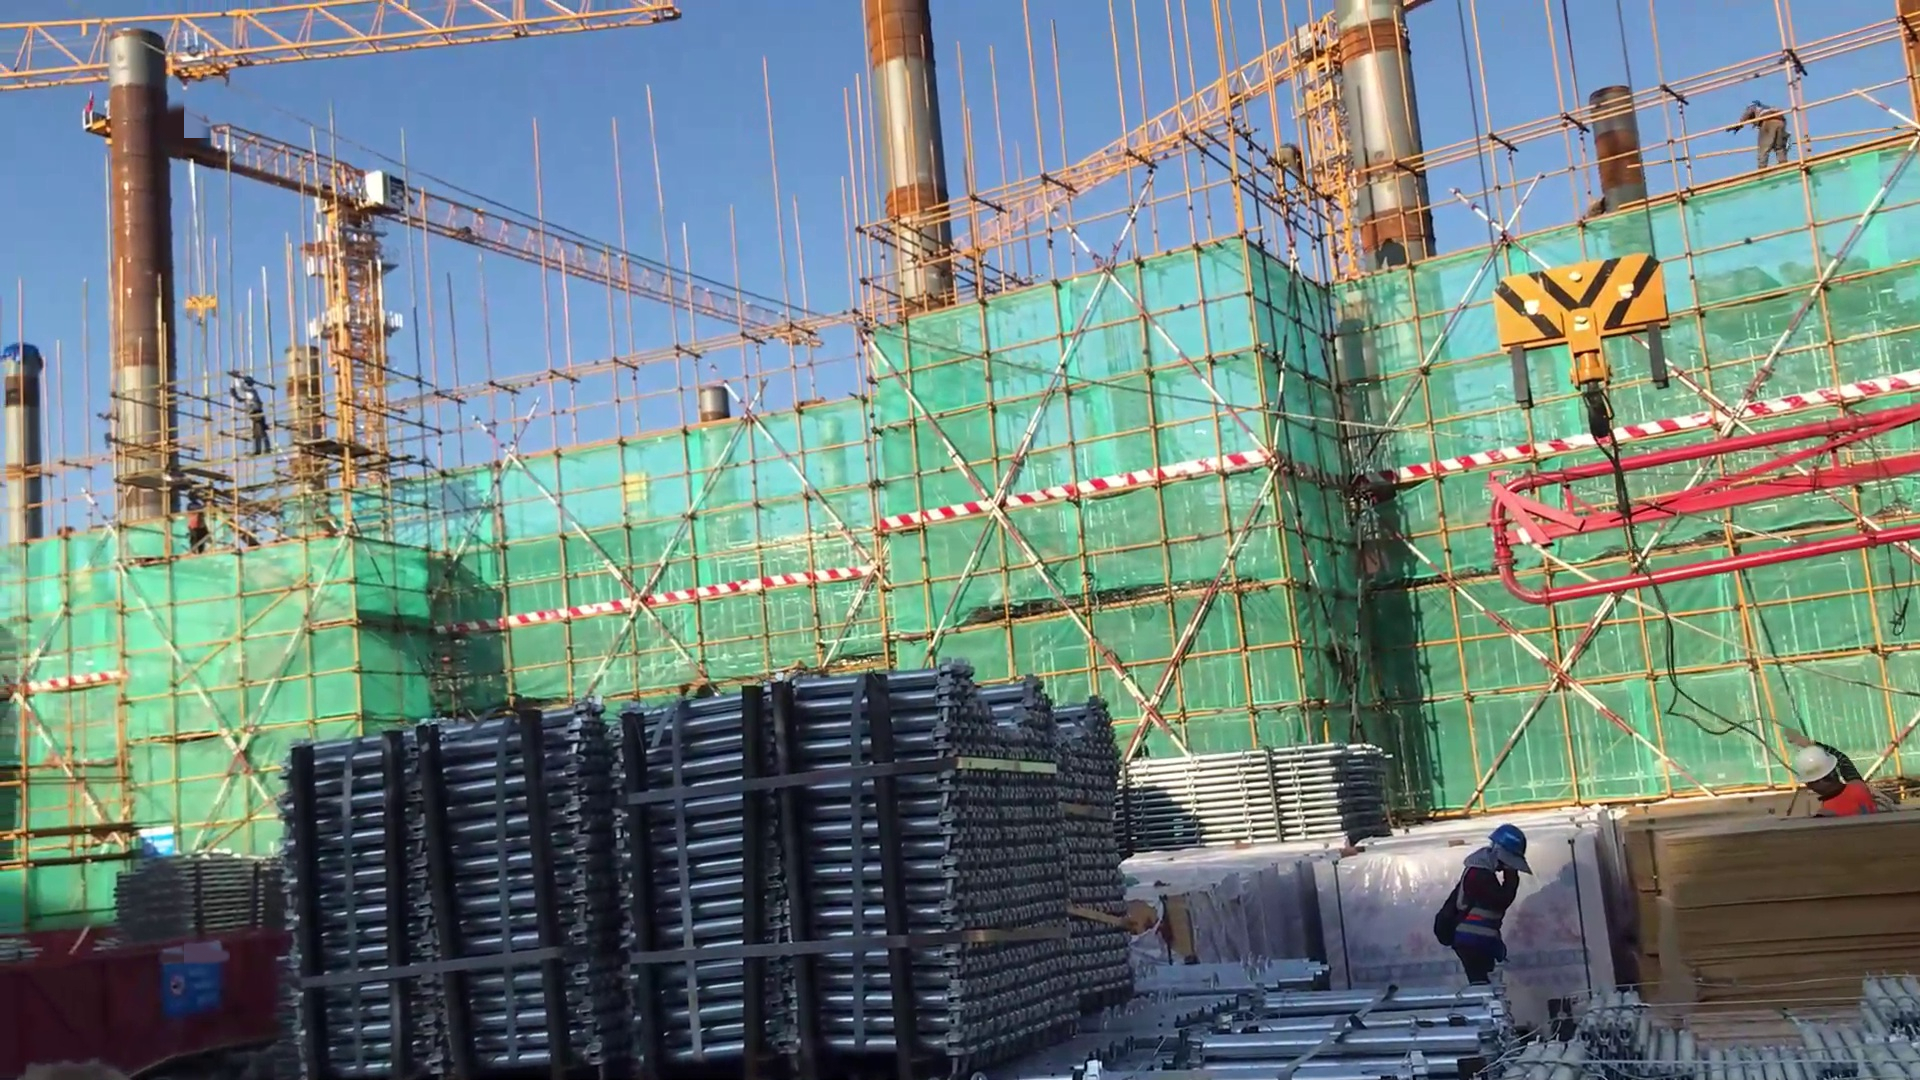board: (1620, 801, 1920, 1004)
fence: (1, 920, 275, 1074)
helmet: (1479, 815, 1537, 872), (1787, 740, 1840, 800)
hook: (1486, 248, 1693, 463), (183, 273, 231, 342)
person: (1425, 822, 1544, 1016), (1780, 737, 1882, 830), (1728, 97, 1807, 179), (167, 478, 219, 569), (229, 368, 270, 467)
scaffold: (277, 638, 1143, 1080), (1476, 976, 1920, 1080), (1136, 969, 1515, 1080), (1131, 742, 1393, 862), (95, 828, 280, 971)
slogan: (158, 946, 234, 1027), (138, 817, 183, 864)
vest: (1434, 860, 1515, 965), (1806, 782, 1879, 824)
